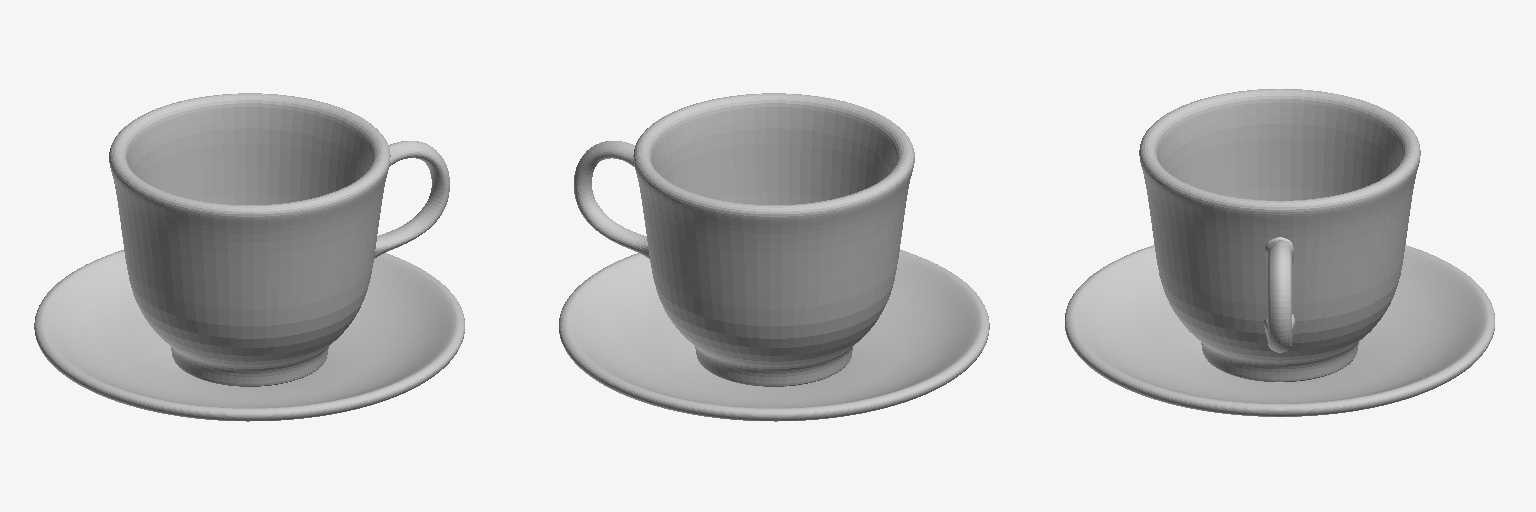
Rendered from tea_cup.obj.
The picture shows the model from 3 angles: view 1: azimuth 30°, elevation 25°; view 2: azimuth 150°, elevation 25°; view 3: azimuth 270°, elevation 25°; orthographic projection.
Visible parts, largest first — view 1: cup_Cylinder; view 2: cup_Cylinder; view 3: cup_Cylinder.
Boxes of the visible parts, x1,y1,x2,y2 form: cup_Cylinder: [34, 93, 464, 421]; cup_Cylinder: [559, 93, 989, 421]; cup_Cylinder: [1065, 89, 1494, 416].
Bounding box in the file's own units: 5.86 × 3.12 × 5.67.